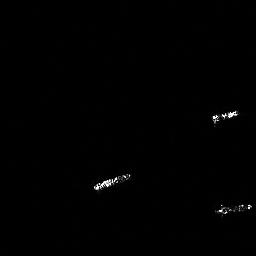ship: (88, 169, 134, 194), (211, 198, 256, 218), (208, 107, 241, 127)
